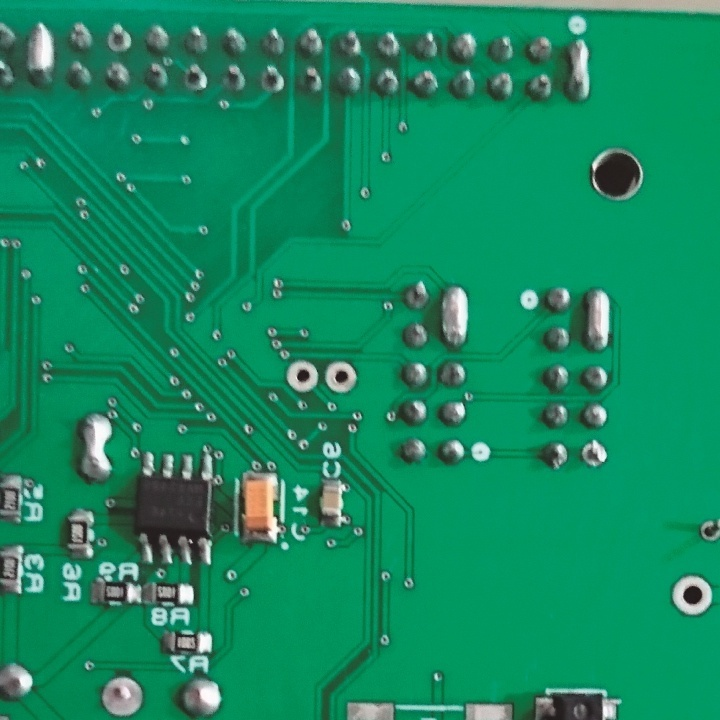F: (97, 672, 147, 720), (671, 570, 715, 620), (323, 356, 362, 396), (284, 357, 319, 394), (580, 435, 608, 476), (103, 20, 136, 53), (181, 64, 212, 94), (261, 64, 290, 96), (697, 515, 720, 545)
P: (76, 406, 116, 487), (584, 284, 617, 357), (439, 278, 470, 352), (27, 19, 57, 91), (566, 34, 596, 106)
